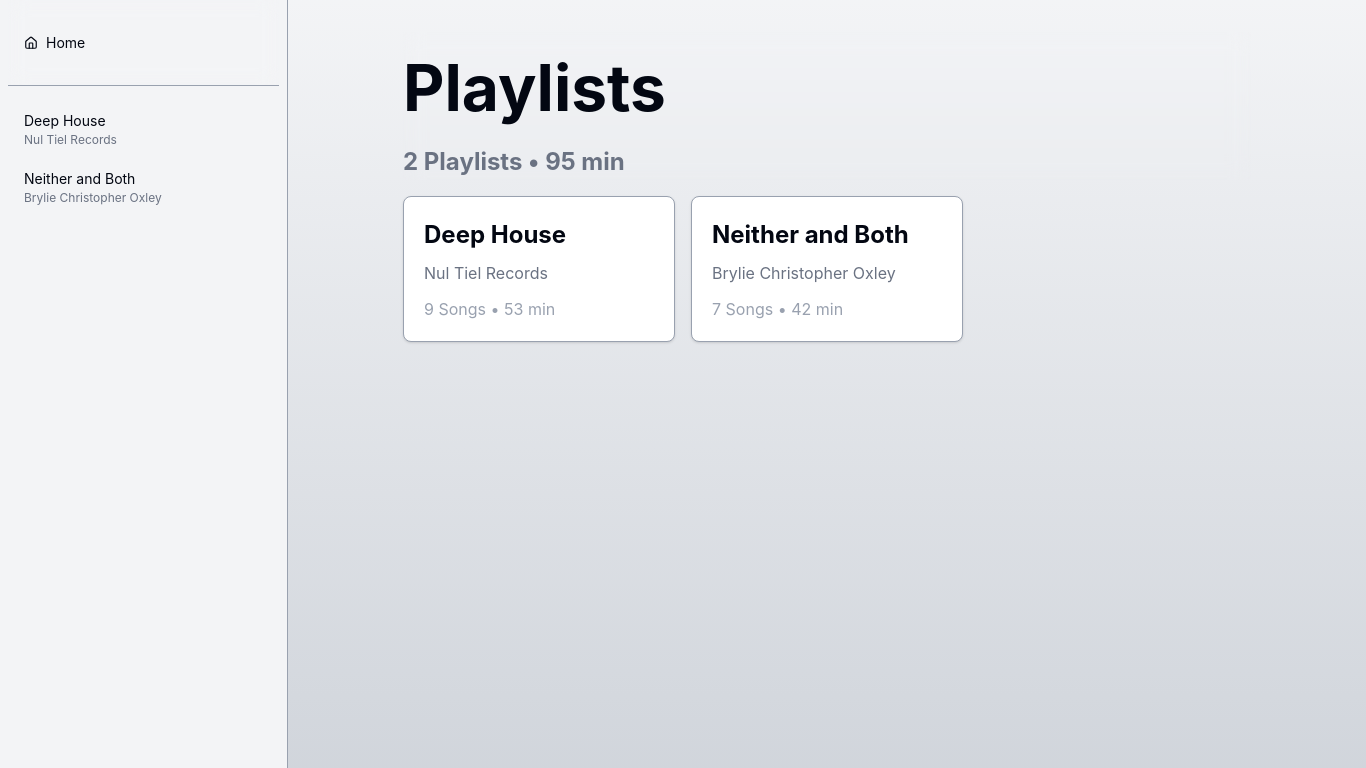
it: Audio Player Component › displays Audio Player
# Navigate to first playlist Deep House
Click the 1st element with test id "playlist-card".
click(539, 269)  # box [403, 196, 675, 342]
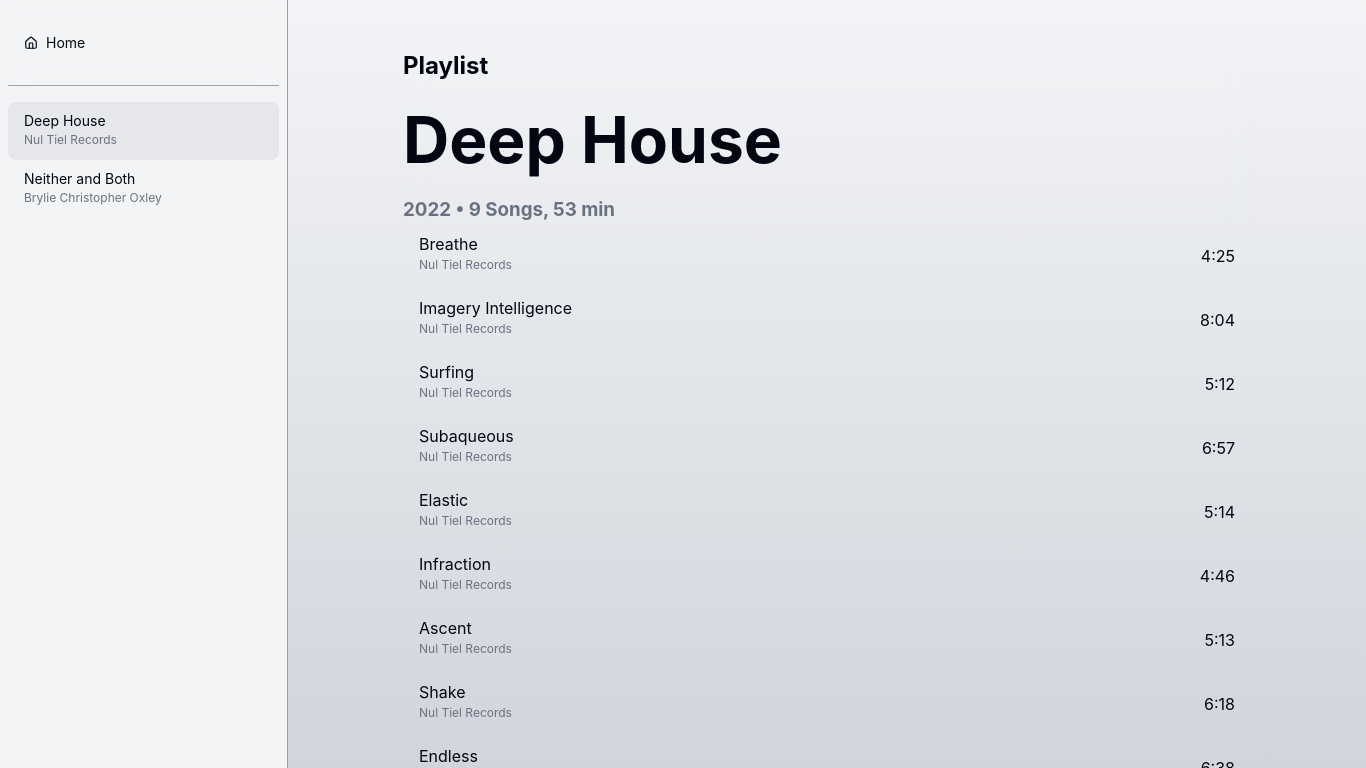
# Click the first track [Breathe - Nul Tiel Records]
Click the list item with test id "playlist-list-item" showing "Breathe Nul Tiel Records 4:25".
click(448, 244)  # box [419, 234, 1235, 272]
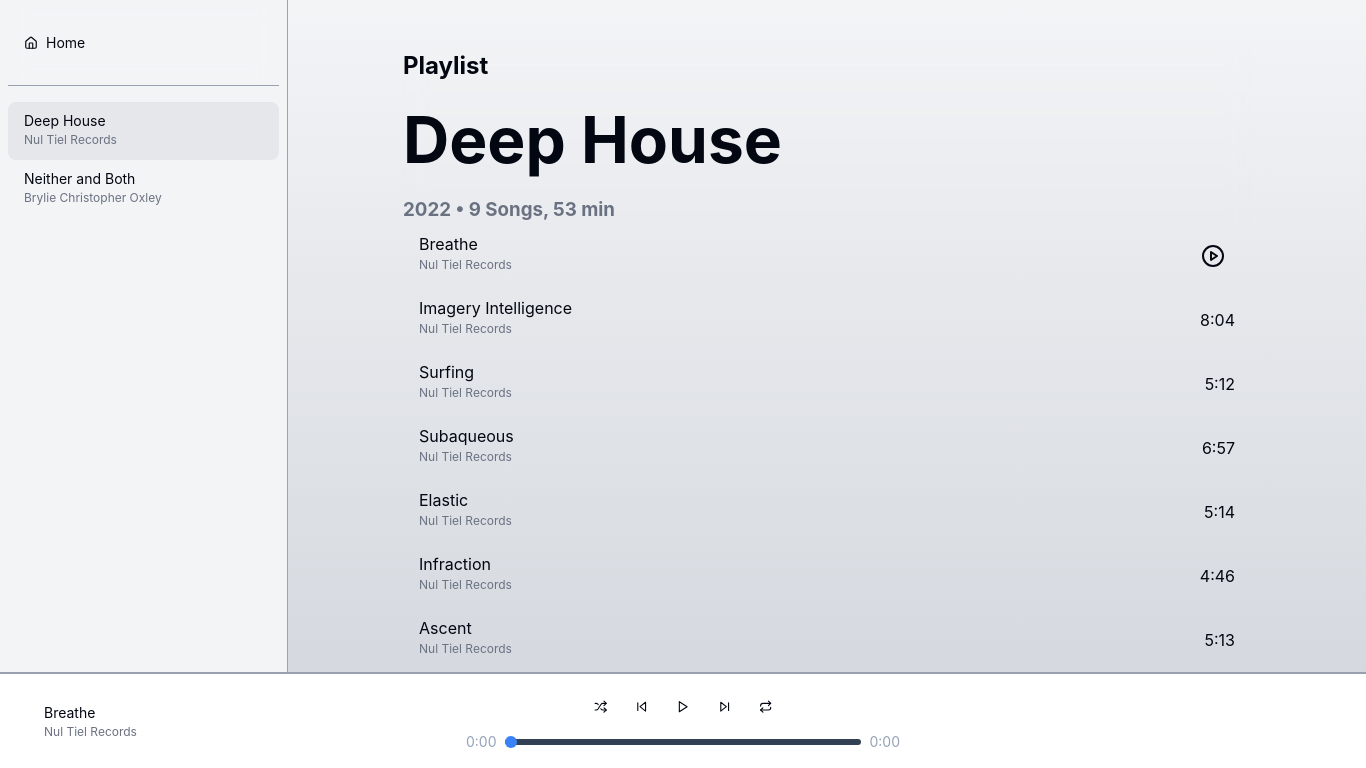
Expected: the element with test id "audio-player" is shown, [0, 672, 1365, 767]
Expected: the button with test id "play-pause-button" is shown, [666, 690, 699, 723]
Expected: the button with test id "next-button" is shown, [708, 690, 741, 723]
